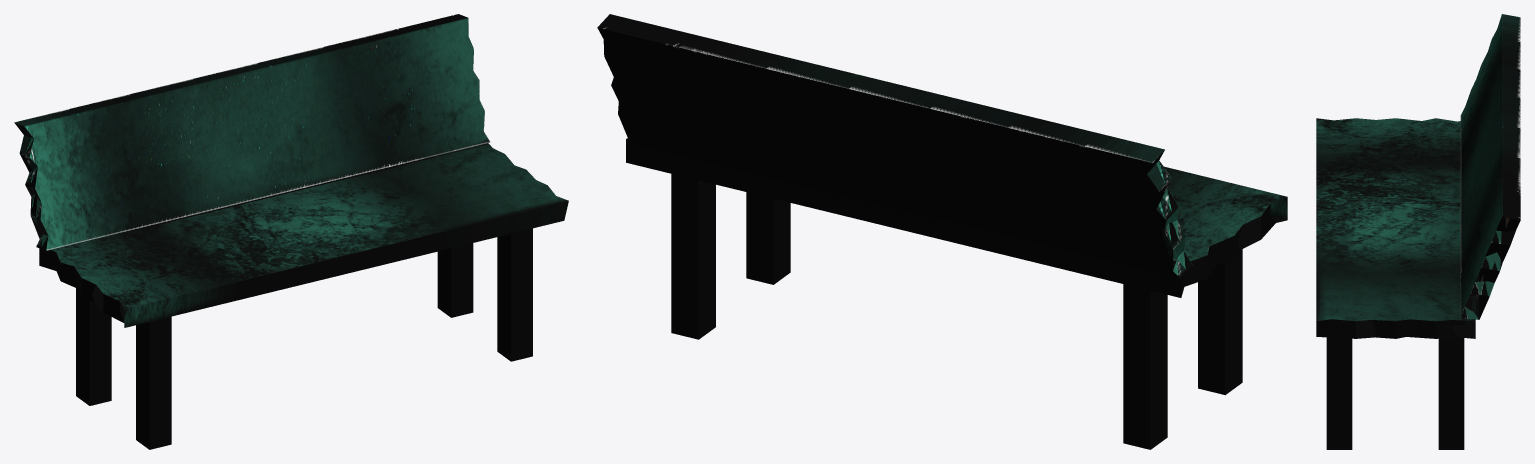
The model's file is silla malvada  .fbx.
3 renders of one model, left to right at view 1: azimuth 30°, elevation 25°; view 2: azimuth 150°, elevation 25°; view 3: azimuth 270°, elevation 25°, orthographic. The views are drawn at different scales.
Parts seen in each view (by area): view 1: silla_Malvada; view 2: silla_Malvada; view 3: silla_Malvada.
Part boxes in pixels (box(x1,y1,x2,y2)): silla_Malvada: box(14, 14, 568, 449); silla_Malvada: box(597, 14, 1287, 449); silla_Malvada: box(1316, 14, 1520, 449).
Size of the model in its own units: 2697 by 1521 by 1145.
Materials: 3 (3 with a texture image).
